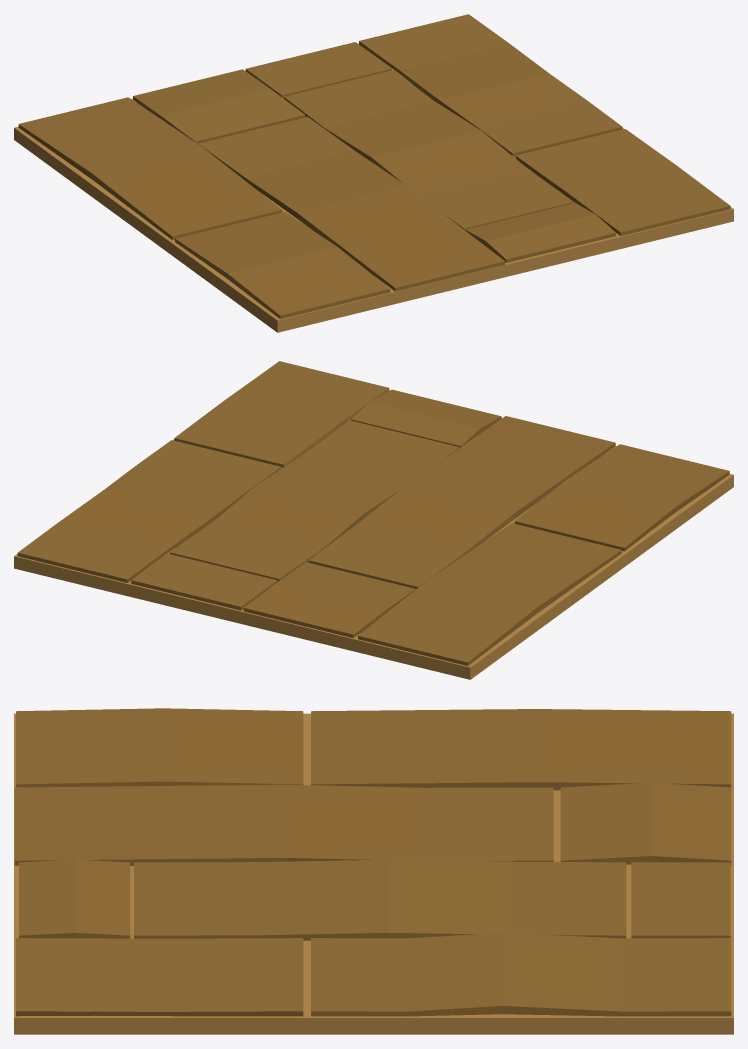
File: Zemin_1.fbx
3 views of the same model, one above another, from view 1: azimuth 30°, elevation 25°; view 2: azimuth 150°, elevation 25°; view 3: azimuth 270°, elevation 25° (orthographic). The views are drawn at different scales.
Visible parts, largest first — view 1: Cube.003; view 2: Cube.003; view 3: Cube.003.
Part boxes in pixels (x1,y1,x2,y2): Cube.003: (14, 14, 733, 332); Cube.003: (14, 361, 733, 679); Cube.003: (14, 708, 733, 1034).
Size of the model in its own units: 200 by 7.67 by 200.
